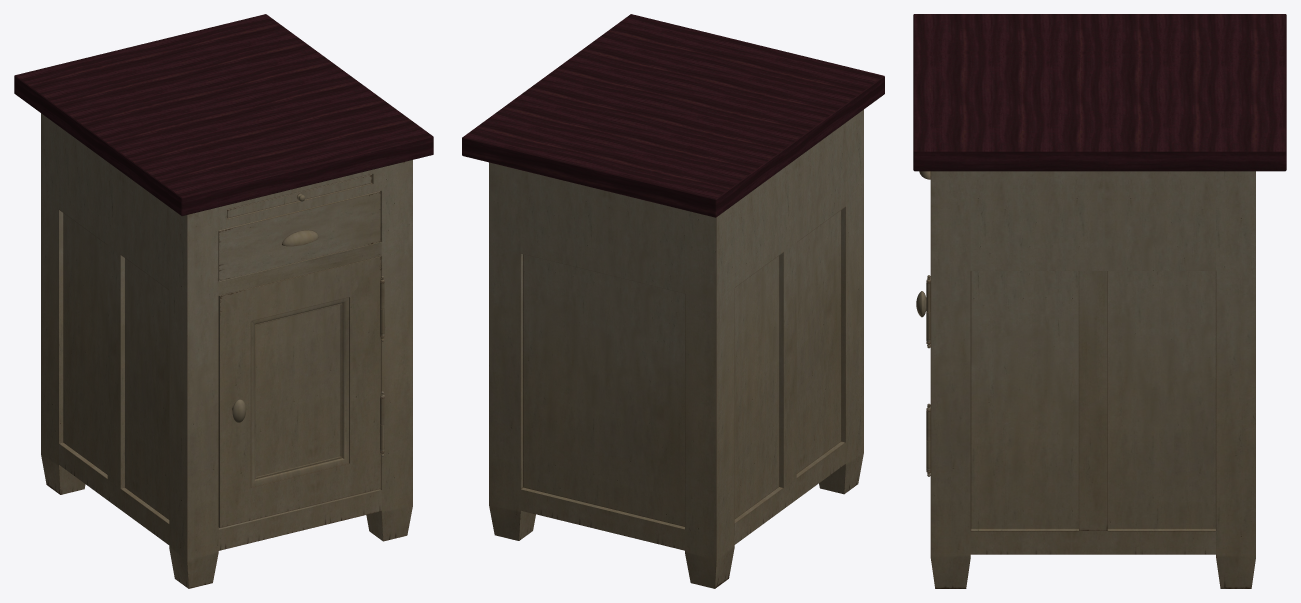
Rendered from example100.gltf.
The picture shows the model from 3 angles, left to right: view 1: azimuth 30°, elevation 25°; view 2: azimuth 150°, elevation 25°; view 3: azimuth 270°, elevation 25°; orthographic projection. The views are drawn at different scales.
Bounding box in the file's own units: 56.5 × 86 × 65.
Materials: 2 (2 with a texture image).
